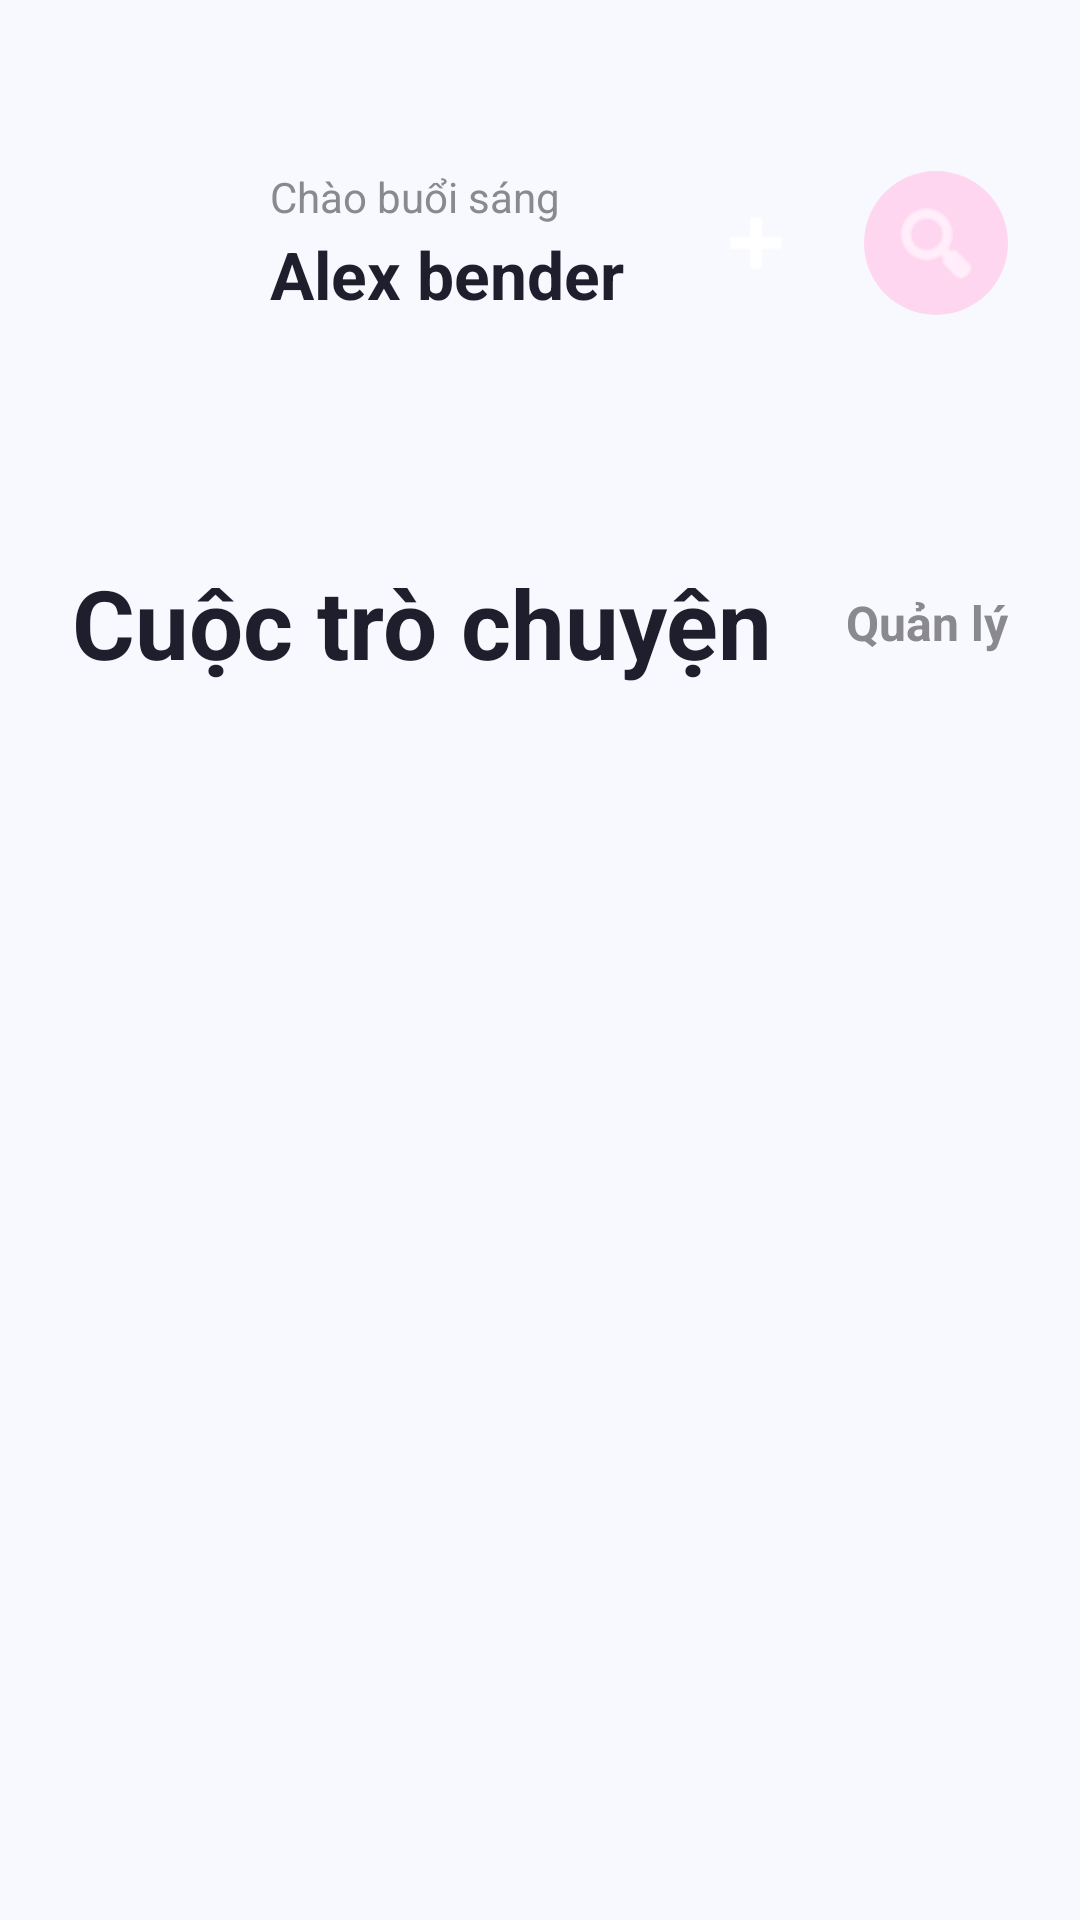

Named icons in this screenshot (1080x1920) and their bounding boxes, (x1, y1, x2, y2):
Tìm kiếm: (864, 171, 1008, 315)
